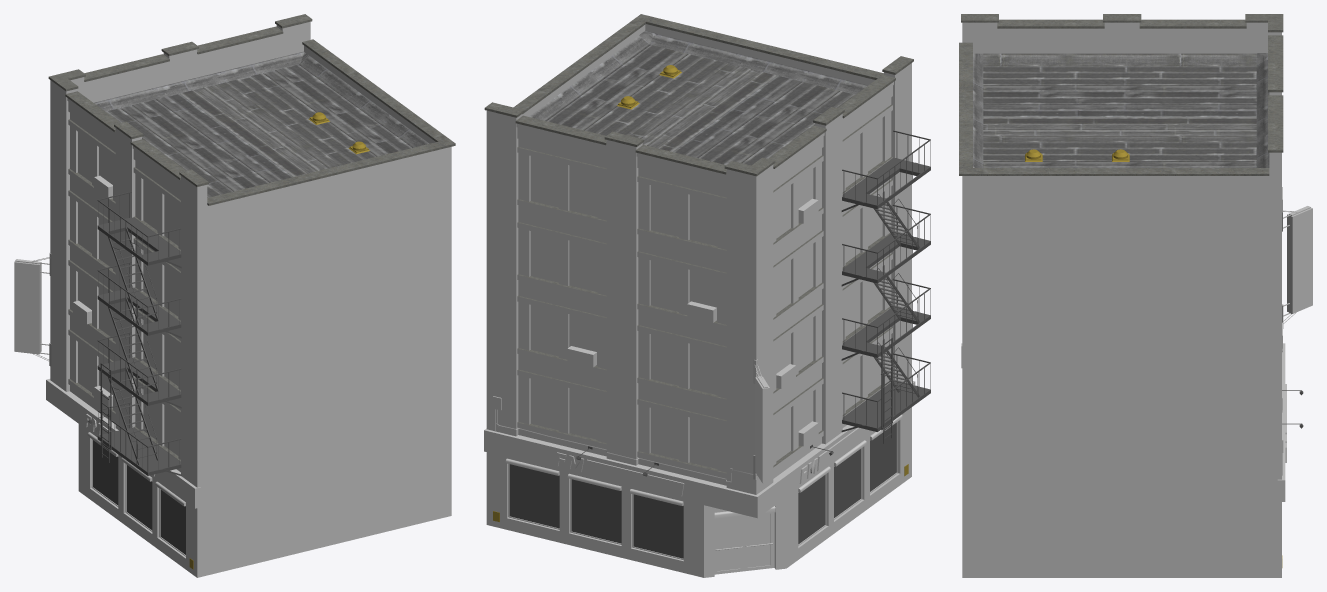
The model's file is mcp_building_08_LOD_0.FBX.
The picture shows the model from 3 angles, left to right: view 1: azimuth 30°, elevation 25°; view 2: azimuth 150°, elevation 25°; view 3: azimuth 270°, elevation 25°; orthographic projection. The views are drawn at different scales.
Parts seen in each view (by area): view 1: mcp_building_08_concrete_01, mcp_building_08_brick, mcp_building_08_roof, mcp_building_08, mcp_building_08_props_01, mcp_building_08_concrete_02, mcp_building_08_illumitation, mcp_building_08_glass; view 2: mcp_building_08_brick, mcp_building_08, mcp_building_08_roof, mcp_building_08_illumitation, mcp_building_08_glass, mcp_building_08_props_01, mcp_building_08_concrete_02, mcp_building_08_concrete_01; view 3: mcp_building_08_concrete_01, mcp_building_08_roof, mcp_building_08_concrete_02, mcp_building_08_brick, mcp_building_08_illumitation, mcp_building_08.
Boxes of the visible parts, x1=… form: mcp_building_08_concrete_01: x1=84, y1=39, x2=451, y2=577; mcp_building_08_brick: x1=50, y1=21, x2=310, y2=487; mcp_building_08_roof: x1=94, y1=51, x2=429, y2=197; mcp_building_08: x1=15, y1=132, x2=200, y2=577; mcp_building_08_props_01: x1=88, y1=192, x2=181, y2=475; mcp_building_08_concrete_02: x1=48, y1=14, x2=455, y2=205; mcp_building_08_illumitation: x1=14, y1=180, x2=178, y2=440; mcp_building_08_glass: x1=93, y1=440, x2=185, y2=554; mcp_building_08_brick: x1=486, y1=63, x2=911, y2=494; mcp_building_08: x1=484, y1=156, x2=915, y2=577; mcp_building_08_roof: x1=529, y1=30, x2=867, y2=165; mcp_building_08_illumitation: x1=530, y1=118, x2=882, y2=571; mcp_building_08_glass: x1=509, y1=423, x2=896, y2=558; mcp_building_08_props_01: x1=576, y1=130, x2=930, y2=476; mcp_building_08_concrete_02: x1=484, y1=14, x2=913, y2=176; mcp_building_08_concrete_01: x1=522, y1=24, x2=875, y2=116; mcp_building_08_concrete_01: x1=962, y1=34, x2=1281, y2=577; mcp_building_08_roof: x1=973, y1=53, x2=1269, y2=167; mcp_building_08_concrete_02: x1=959, y1=14, x2=1283, y2=175; mcp_building_08_brick: x1=962, y1=22, x2=1281, y2=480; mcp_building_08_illumitation: x1=1287, y1=207, x2=1312, y2=313; mcp_building_08: x1=961, y1=187, x2=1310, y2=501.
Size of the model in its own units: 1552 by 1997 by 1496.
